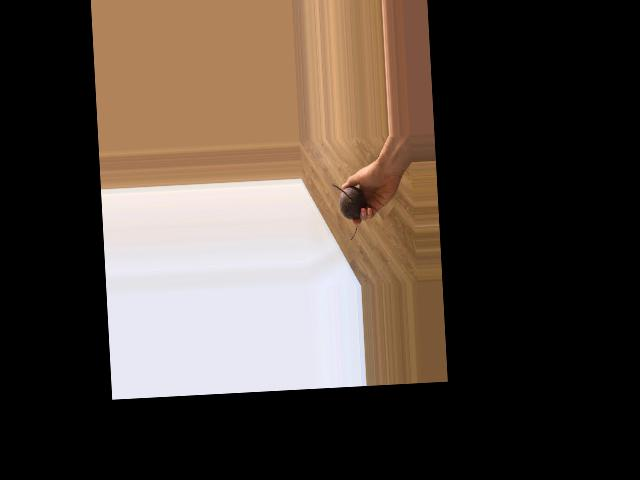beet: (332, 183, 367, 241)
